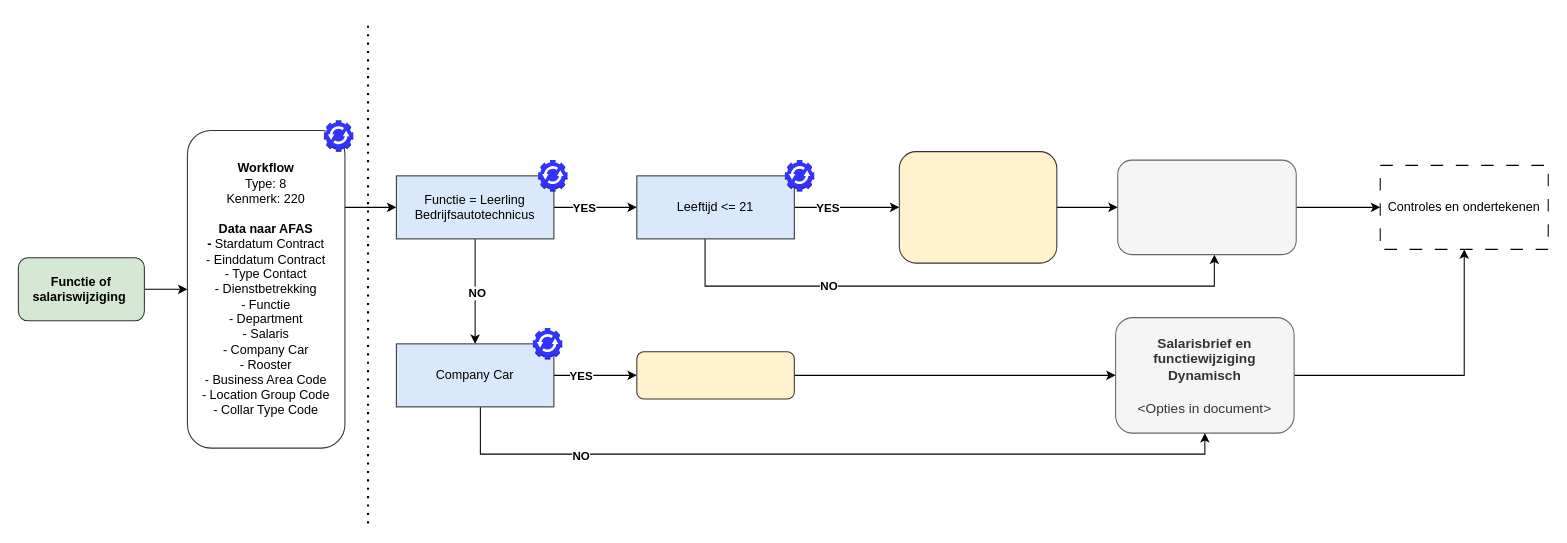
This 1567x543 diagram has some shape labels left out. The shapes that lost their labels are listed below. From the top down, each one's centre as x and y in pixels, then its label:
At (977,207): "KIES - Leeftijd - Opleiding - Opleding en leeftijd".
At (1206,207): "Salarisbrief Leerling <Opties in document>".
At (715,375): "Kies type company car".
